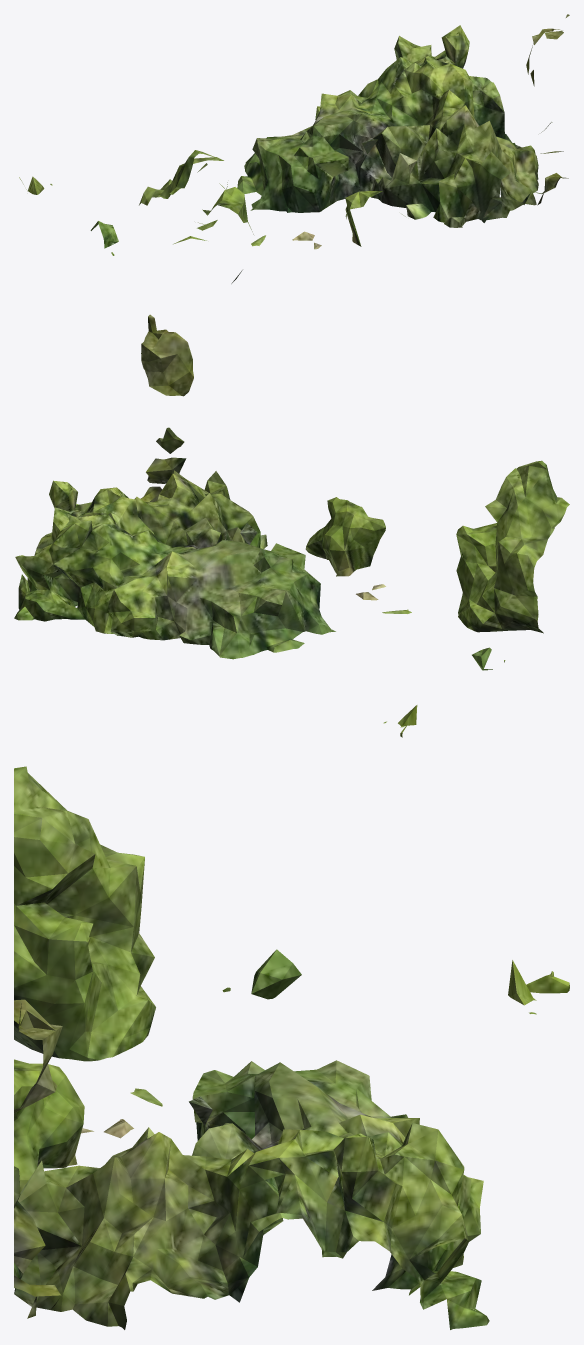
The picture shows the model from 3 angles, top to bottom: view 1: azimuth 30°, elevation 25°; view 2: azimuth 150°, elevation 25°; view 3: azimuth 270°, elevation 25°; orthographic projection. The views are drawn at different scales.
Bounding box in the file's own units: 26.11 × 11.77 × 18.05.
Materials: 2 (2 with a texture image).
